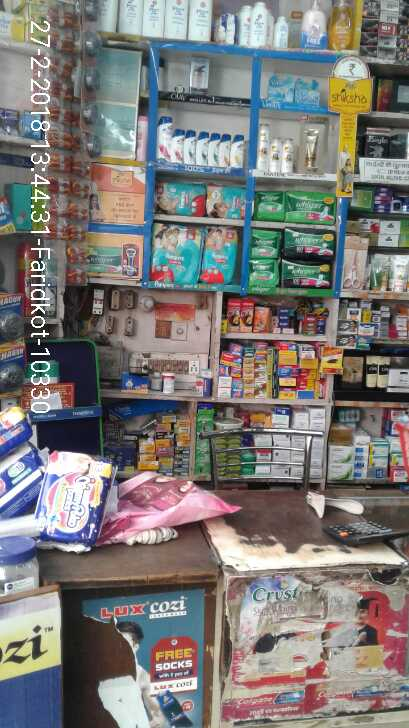venus: (270, 76, 295, 101), (295, 77, 320, 101)
